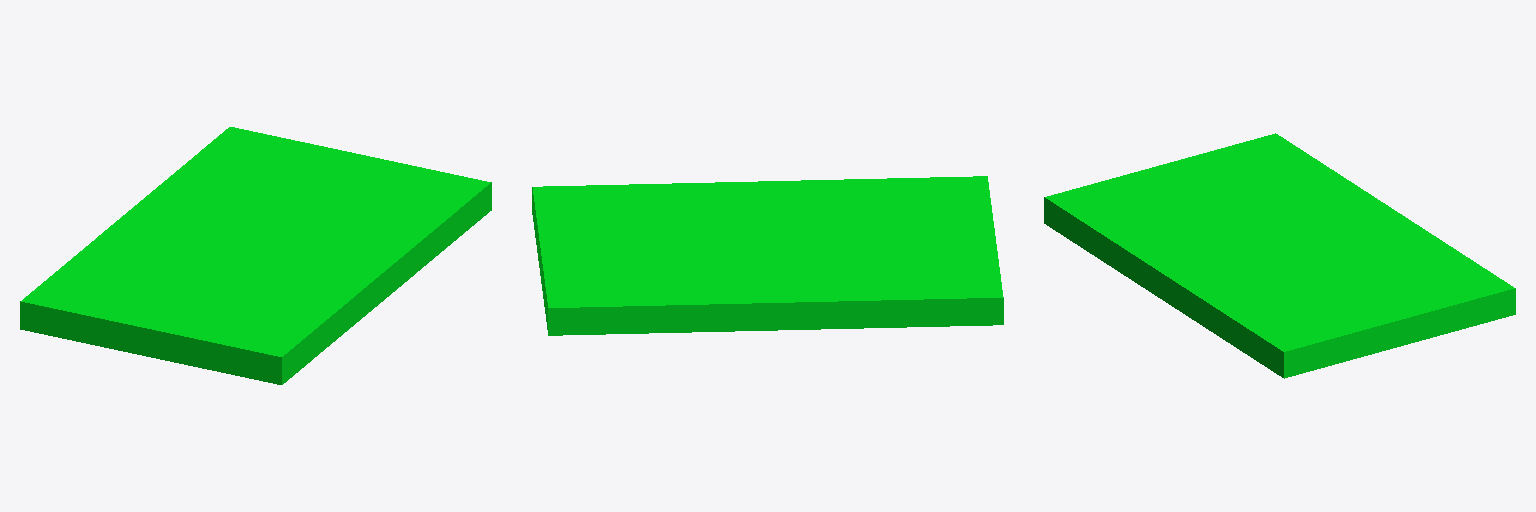
robot.urdf — Interference:
<?xml version="1.0"?>
<robot name="Interference">
  <link name="baseLink">
    <inertial>
      <origin xyz="0.0 0.0 0.0" rpy="0.0 0.0 0.0"/>
      <inertia ixx="0.0" ixy="0.0" ixz="0.0" iyy="0.0" iyz="0.0" izz="0.0"/>
      <mass value="0"/>
    </inertial>
    <visual>
      <origin xyz="0.0 0.0 0.0" rpy="0.0 0.0 -0.9921748592831023"/>
      <geometry>
        <box size="0.09453378360431461 0.14968558649828126 0.01"/>
      </geometry>
      <material name="color">
        <color rgba="0.032614151710117945 0.9260069510213527 0.16537118941661832 1.0"/>
      </material>
    </visual>
  </link>
</robot>

--- Facts derived from the render (not from the file) ---
Views: 3 orthographic renders of the robot side by side, from view 1: azimuth 30°, elevation 25°; view 2: azimuth 150°, elevation 25°; view 3: azimuth 270°, elevation 25°.
Robot: Interference — 1 links, 0 joints (none); root link baseLink; default pose: every joint at zero.
Links seen in each view (by area): view 1: baseLink; view 2: baseLink; view 3: baseLink.
Boxes of the visible links, bbox=[...] form: baseLink: bbox=[20, 127, 491, 384]; baseLink: bbox=[532, 176, 1003, 335]; baseLink: bbox=[1044, 133, 1515, 378].
Size in the robot's own frame: 0.177 by 0.161 by 0.01 metres.
Geometry: primitives only (box / cylinder / sphere), no mesh files.